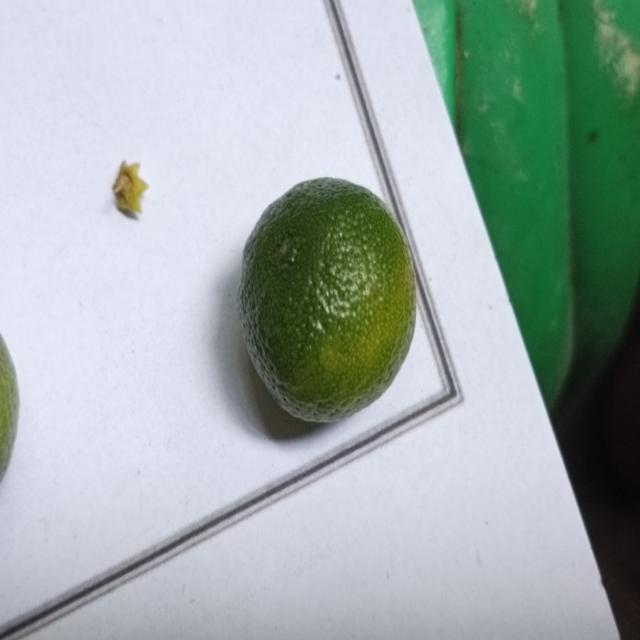heathy: (236, 171, 421, 426)
